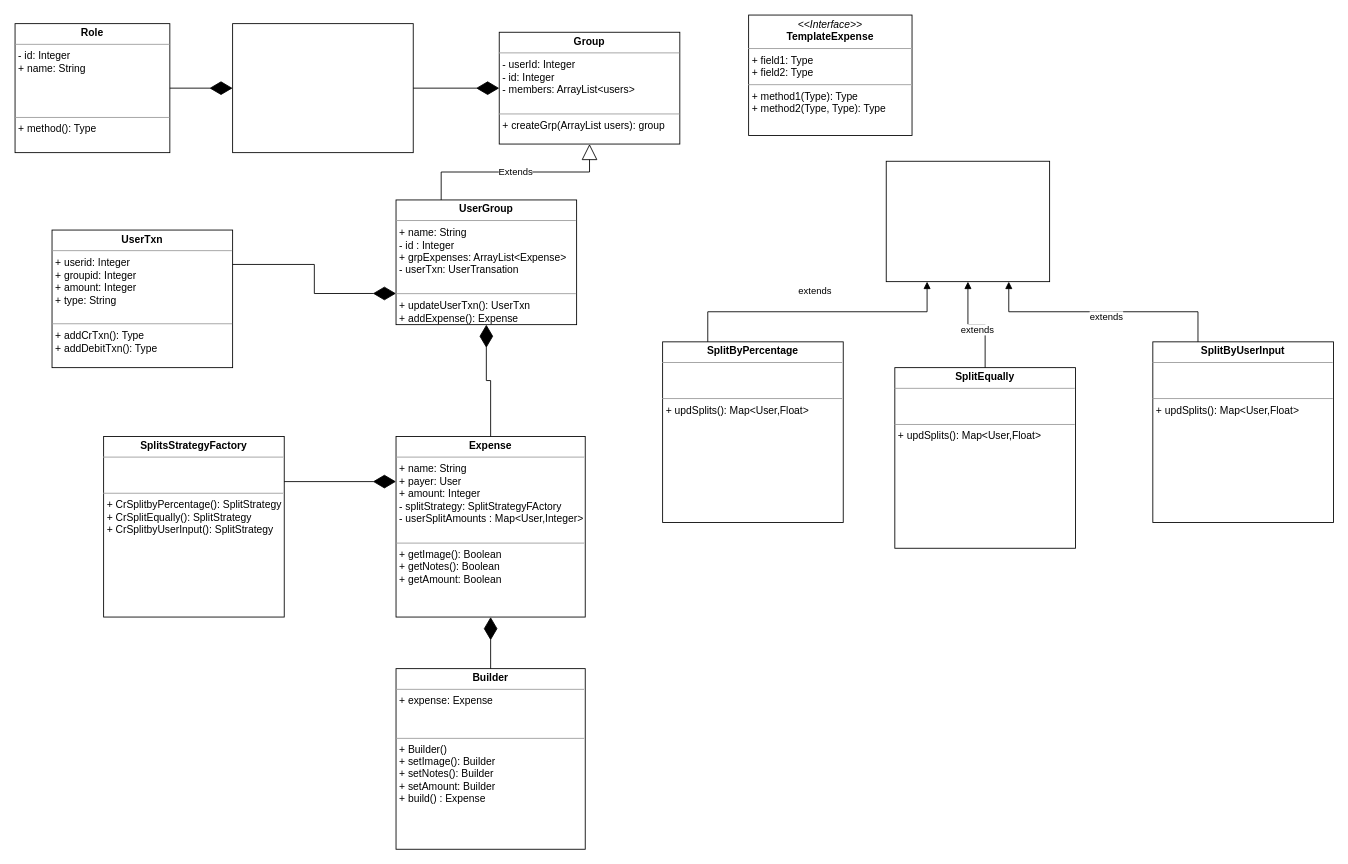
The diagram is 1348 pixels wide and 864 high, and some of its shapes have lost their labels. The shapes that lost their labels are listed below. From the top down, each one's centre as x and y in pixels, then its label:
(x=322, y=88): User + name: String + id: Integer + emailid: String + role: id + method(): Type
(x=967, y=221): SplitStrategy + usersplits: Map<User,Float> + updSplits(): Type
